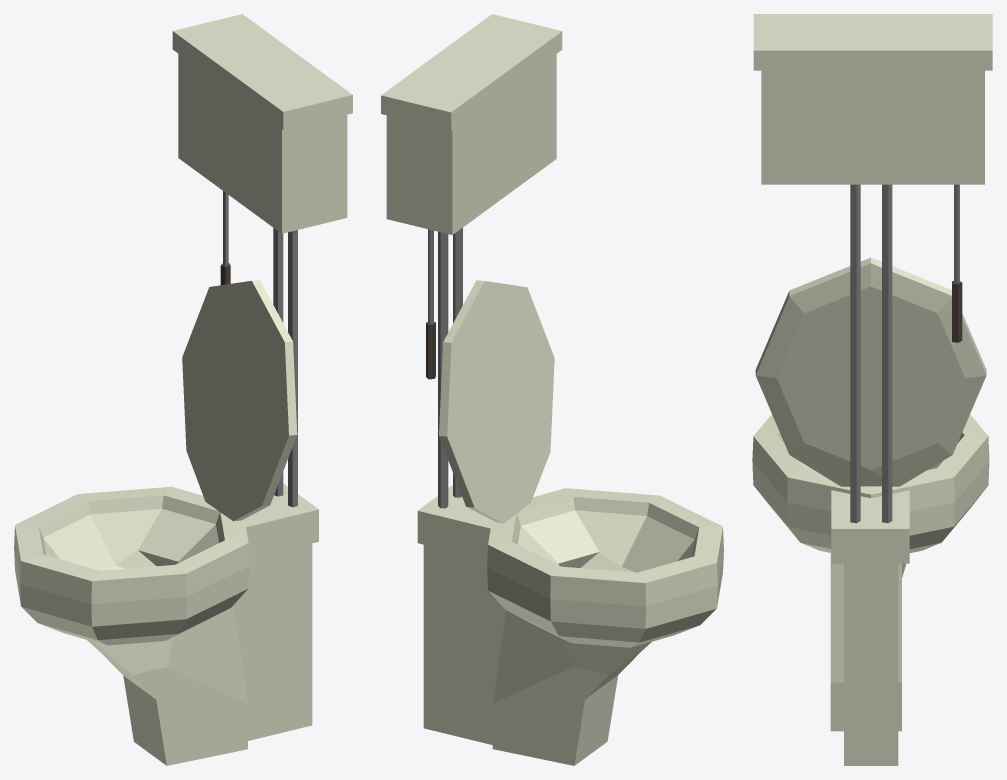
Rendered from TOILET.fbx.
3 views of the same model, side by side, from view 1: azimuth 30°, elevation 25°; view 2: azimuth 150°, elevation 25°; view 3: azimuth 270°, elevation 25° (orthographic). The views are drawn at different scales.
Parts seen in each view (by area): view 1: Sphere, Cylinder.004, Cube.002, Cube, Cube.001, Cube.003, Cube.004, Cylinder, Cylinder.001; view 2: Sphere, Cylinder.004, Cube.002, Cube, Cube.001, Cube.003, Cube.004, Cylinder.001, Cylinder; view 3: Cylinder.004, Cube.002, Cube.003, Sphere, Cube.001, Cube.004, Cylinder, Cylinder.001, Cube, Cylinder.003, Cylinder.002.
Part boxes in pixels (box(x1,y1,x2,y2)): Sphere: box(14, 486, 249, 645); Cylinder.004: box(182, 280, 297, 521); Cube.002: box(178, 54, 347, 233); Cube: box(87, 605, 247, 765); Cube.001: box(233, 543, 312, 740); Cube.003: box(172, 14, 352, 130); Cube.004: box(244, 483, 318, 558); Cylinder: box(288, 230, 297, 507); Cylinder.001: box(273, 228, 283, 496); Sphere: box(487, 488, 723, 647); Cylinder.004: box(439, 280, 554, 523); Cube.002: box(386, 54, 556, 234); Cube: box(492, 610, 651, 765); Cube.001: box(423, 545, 506, 744); Cube.003: box(381, 14, 562, 130); Cube.004: box(417, 485, 491, 559); Cylinder.001: box(438, 231, 448, 508); Cylinder: box(453, 228, 462, 497); Cylinder.004: box(755, 257, 986, 486); Cube.002: box(761, 70, 984, 184); Cube.003: box(753, 14, 992, 70); Sphere: box(752, 414, 989, 552); Cube.001: box(844, 563, 898, 765); Cube.004: box(831, 490, 909, 563); Cylinder: box(850, 184, 860, 523); Cylinder.001: box(882, 184, 892, 523); Cube: box(830, 553, 905, 731); Cylinder.003: box(952, 281, 962, 342); Cylinder.002: box(954, 184, 959, 283).
Bounding box in the file's own units: 113 × 255 × 77.32.
